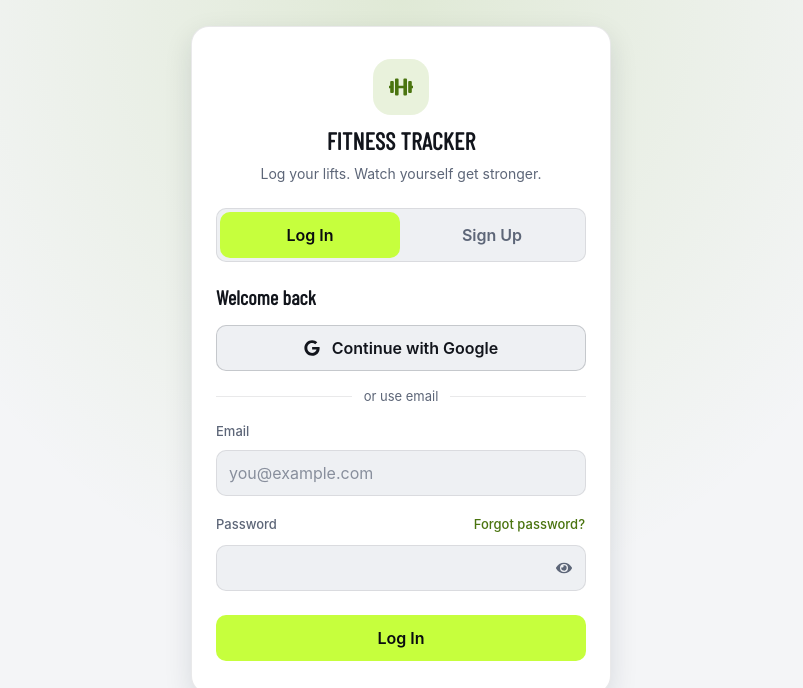
Test case: logging in › turns rate-limit errors into plain words
Type "ada@example.com" into the field labelled "Email" at point(401, 472), box [216,450,586,496]
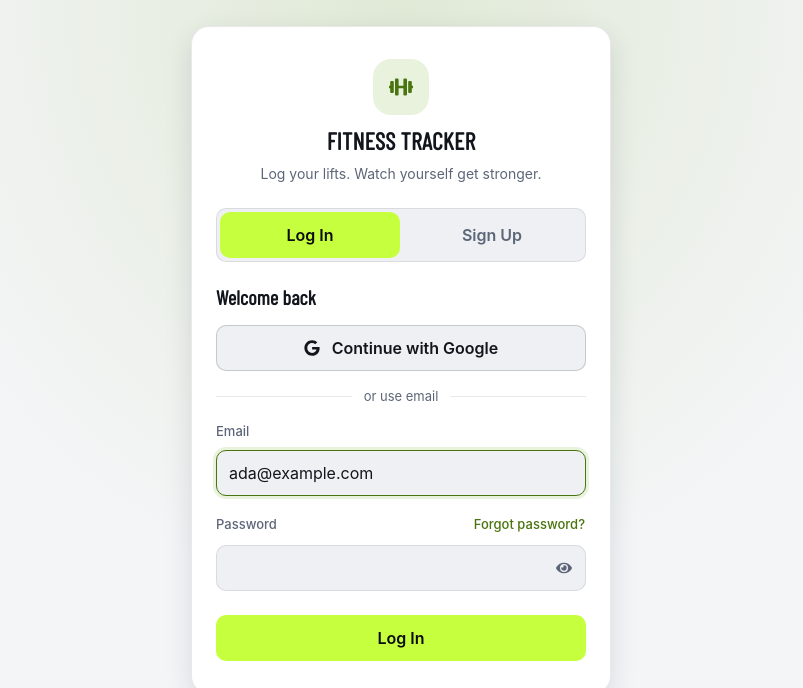
Type "whatever123" into the password field labelled "Password" at point(401, 568), box [216,545,586,591]
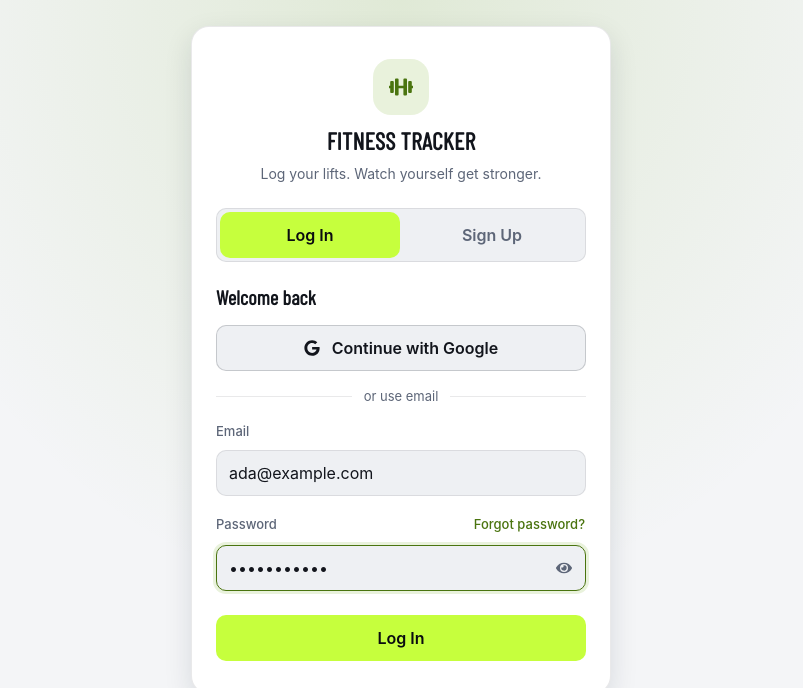
Click the button "Log In" at point(401, 638), box [216,615,586,661]
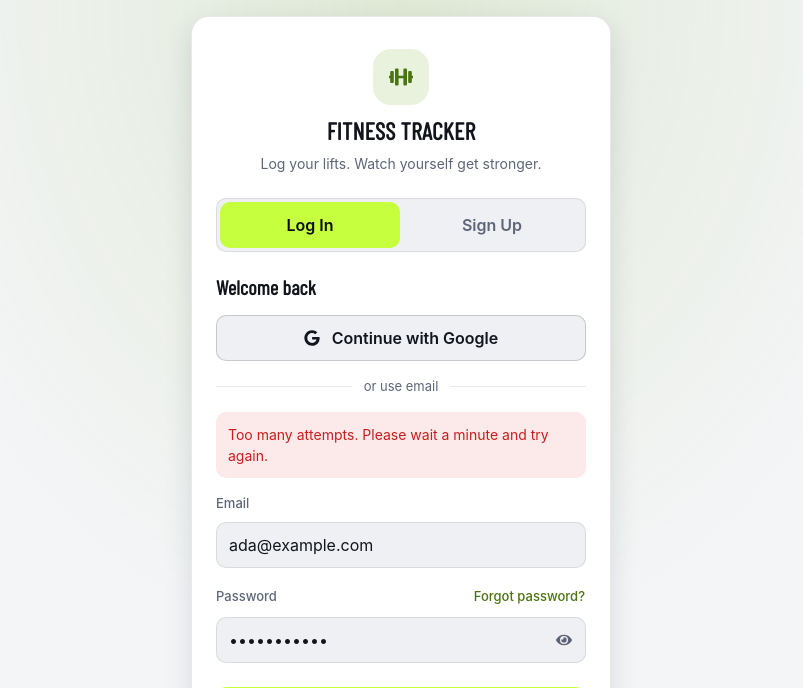
expect the message reads "Too many attempts. Please wait a minute and try again.": met, box [228,426,549,464]
